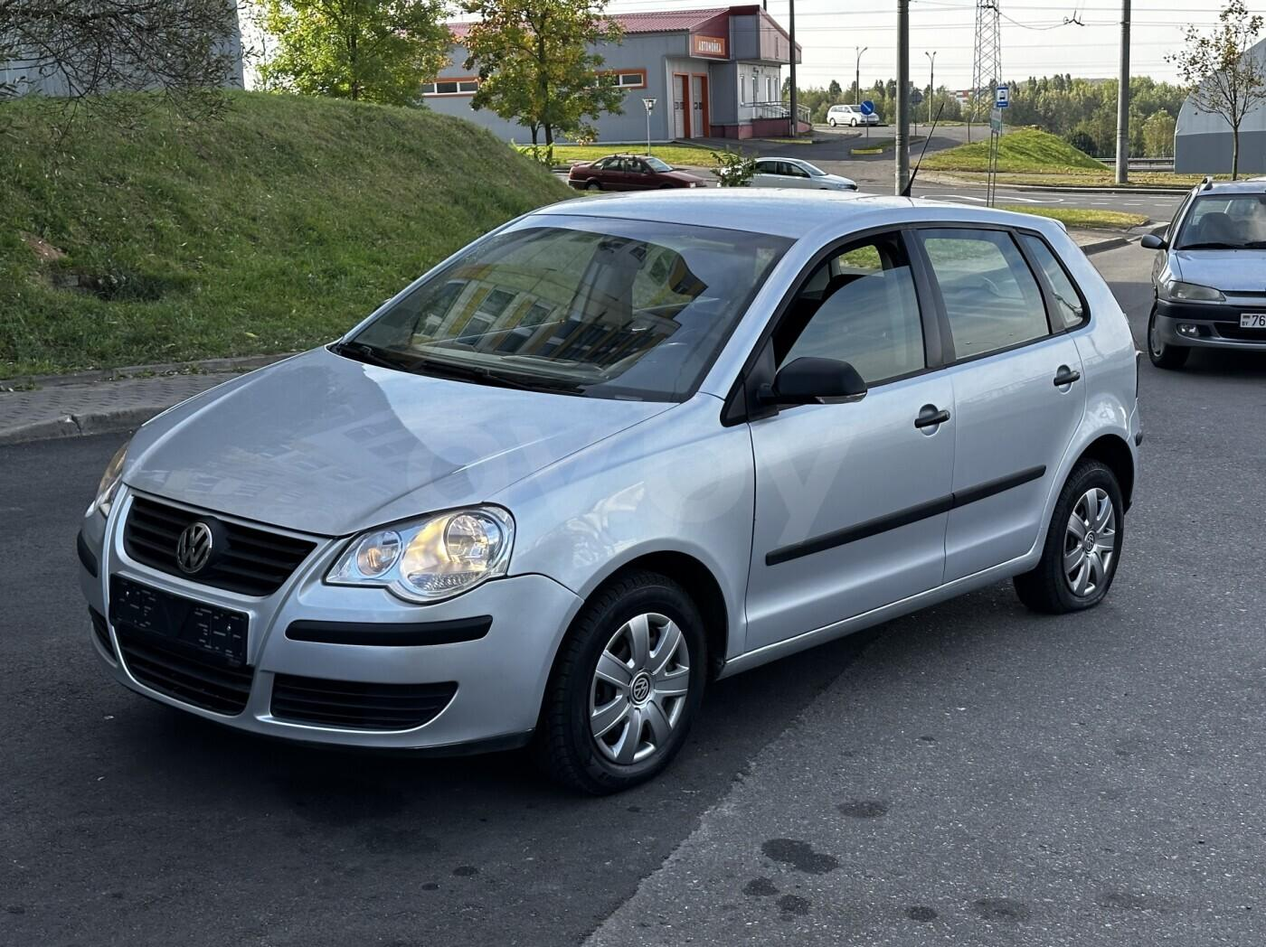Polo_2005-2009: (76, 172, 1144, 800)
